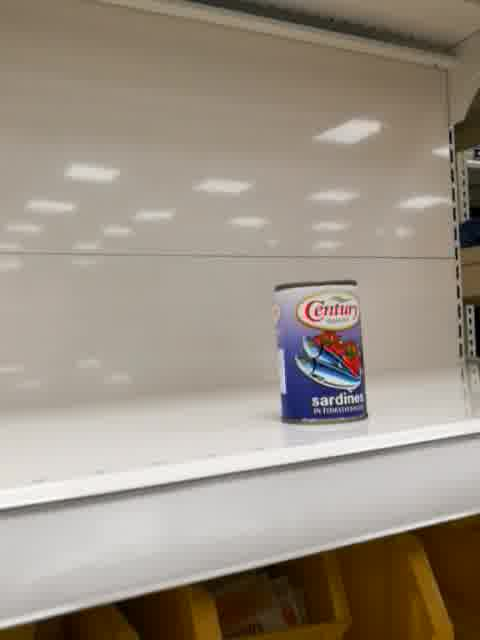sardine: (272, 278, 370, 426)
